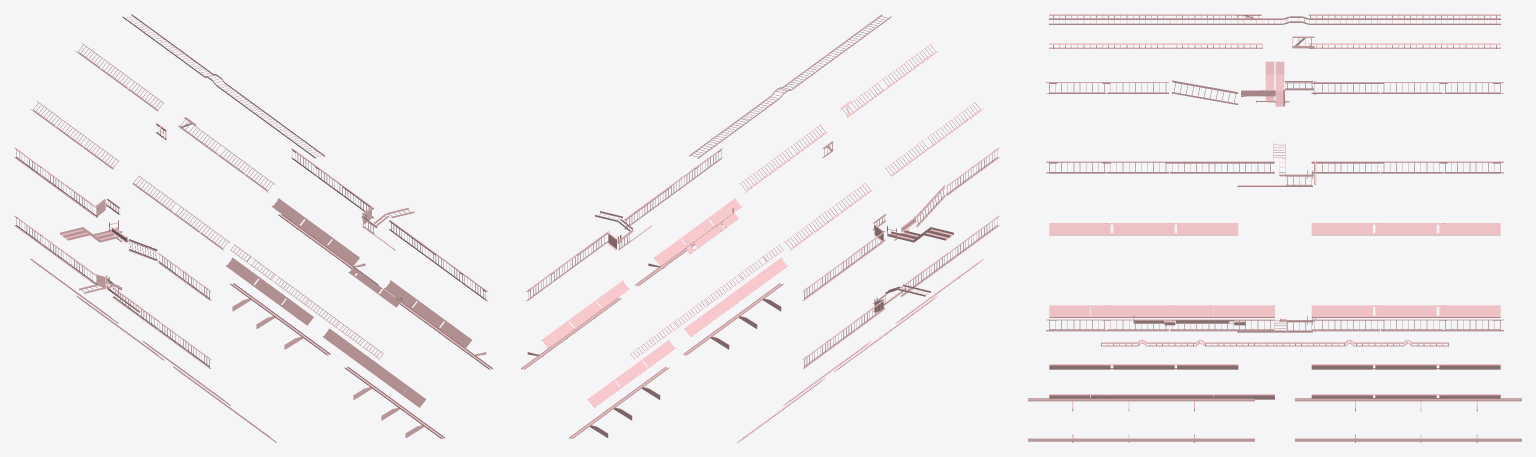
File: Serv-Muon-Cable Trays Inside Barrel-cut3.glb
3 renders of one model, left to right at view 1: azimuth 30°, elevation 25°; view 2: azimuth 150°, elevation 25°; view 3: azimuth 270°, elevation 25°, orthographic. The views are drawn at different scales.
Parts seen in each view (by area): view 1: Cabble Trays Inside Barrel cut3; view 2: Cabble Trays Inside Barrel cut3; view 3: Cabble Trays Inside Barrel cut3.
Boxes of the visible parts, bbox=[...] form: Cabble Trays Inside Barrel cut3: bbox=[14, 14, 492, 442]; Cabble Trays Inside Barrel cut3: bbox=[521, 14, 999, 442]; Cabble Trays Inside Barrel cut3: bbox=[1028, 14, 1521, 442].
Bounding box in the file's own units: 23.09 × 19.81 × 24.15.
